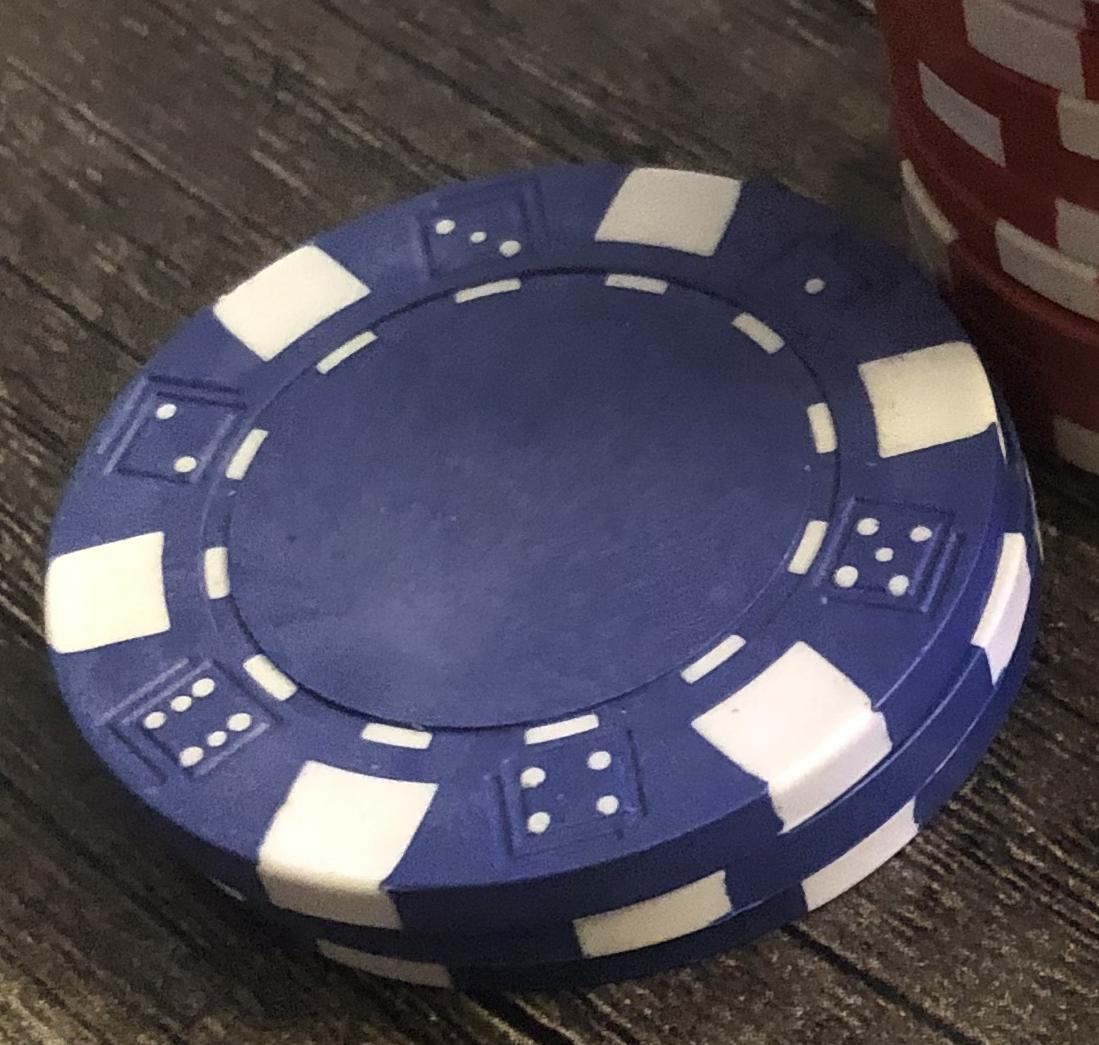Chip: (1, 1, 1099, 1045)
